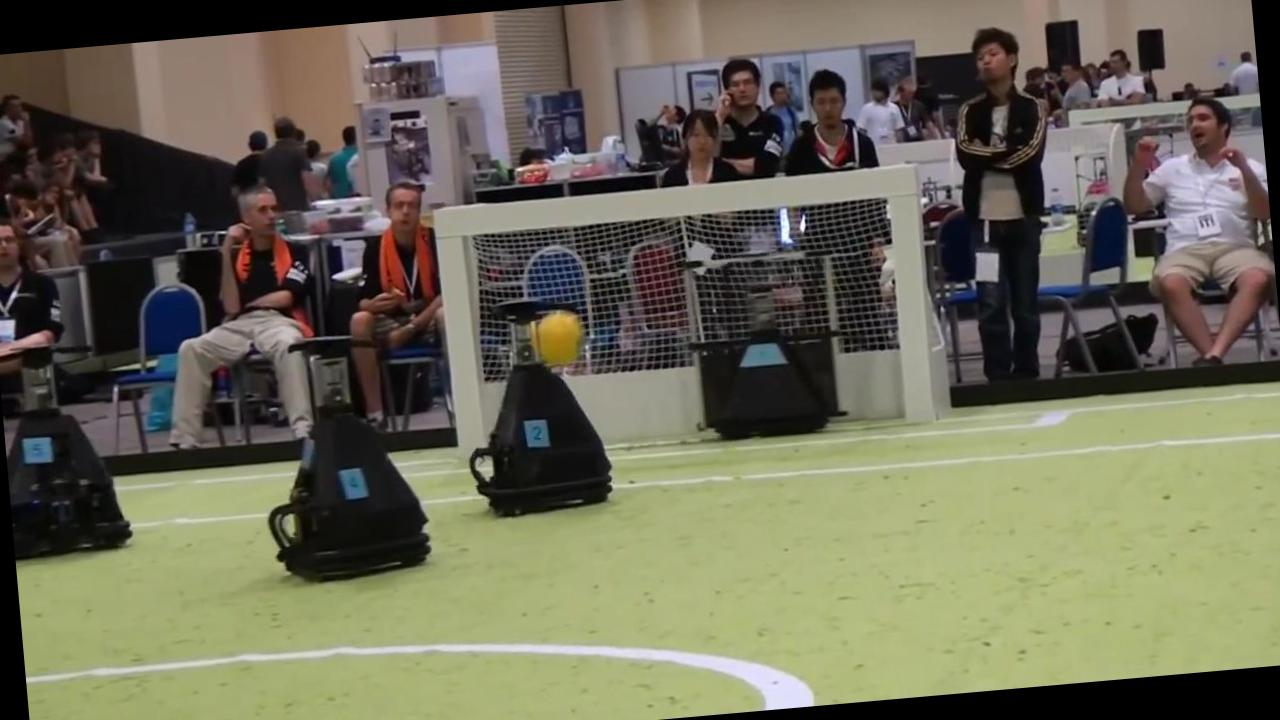ball: (535, 311, 583, 366)
goal: (885, 167, 938, 422), (434, 207, 488, 453)
robot: (267, 339, 431, 580), (468, 299, 611, 515), (6, 347, 131, 556), (697, 284, 838, 440)
